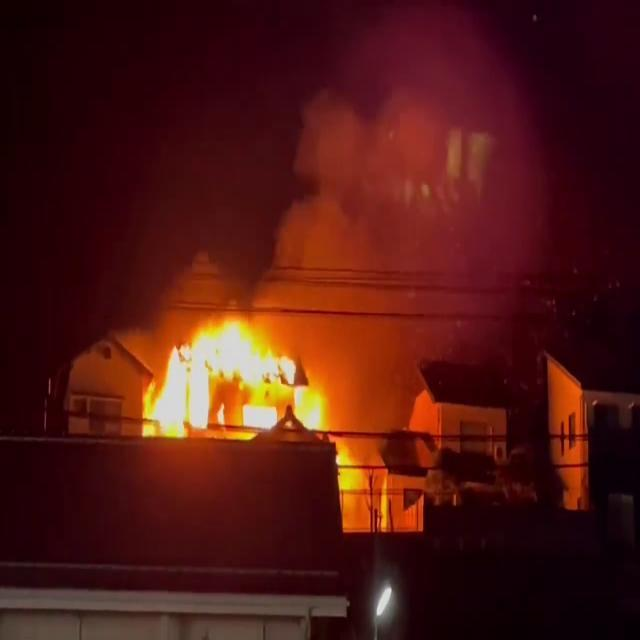Fire: (134, 312, 343, 448)
Smoke: (256, 6, 562, 366)
